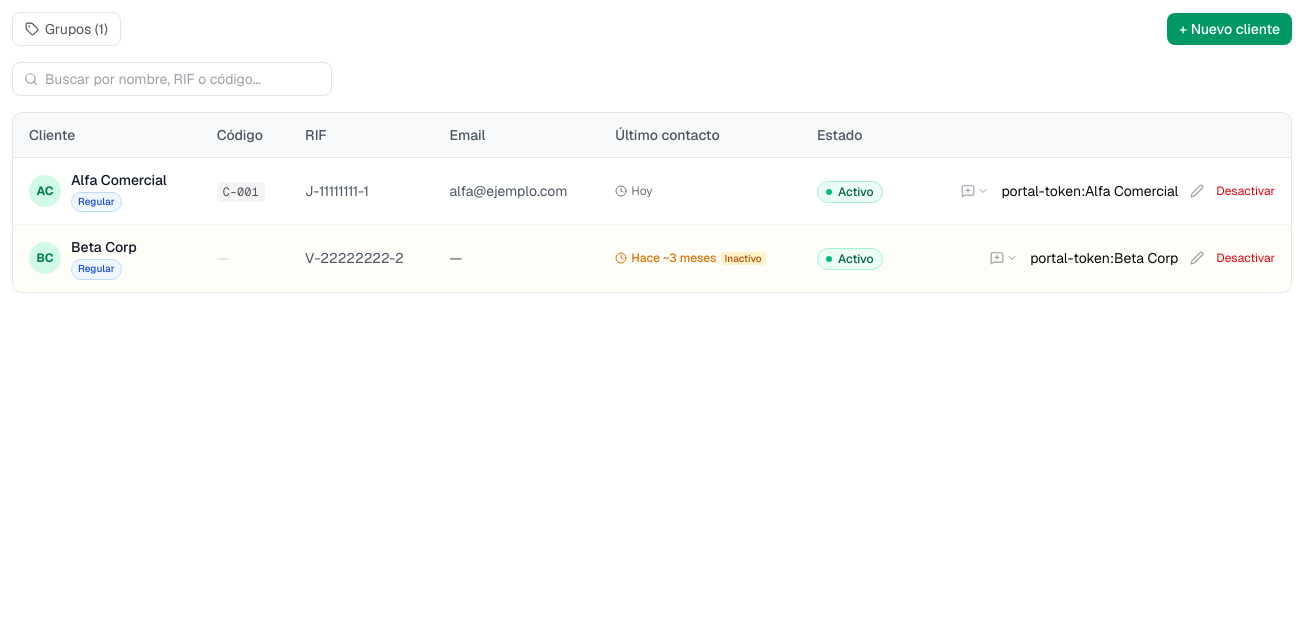
it: CustomerList — smoke del refactor RHF (P2) › createCustomerAction success → el customer nuevo aparece en la lista y el form se cierra
Click the button "+ Nuevo cliente".
click(1230, 29)  # box [1167, 13, 1292, 45]
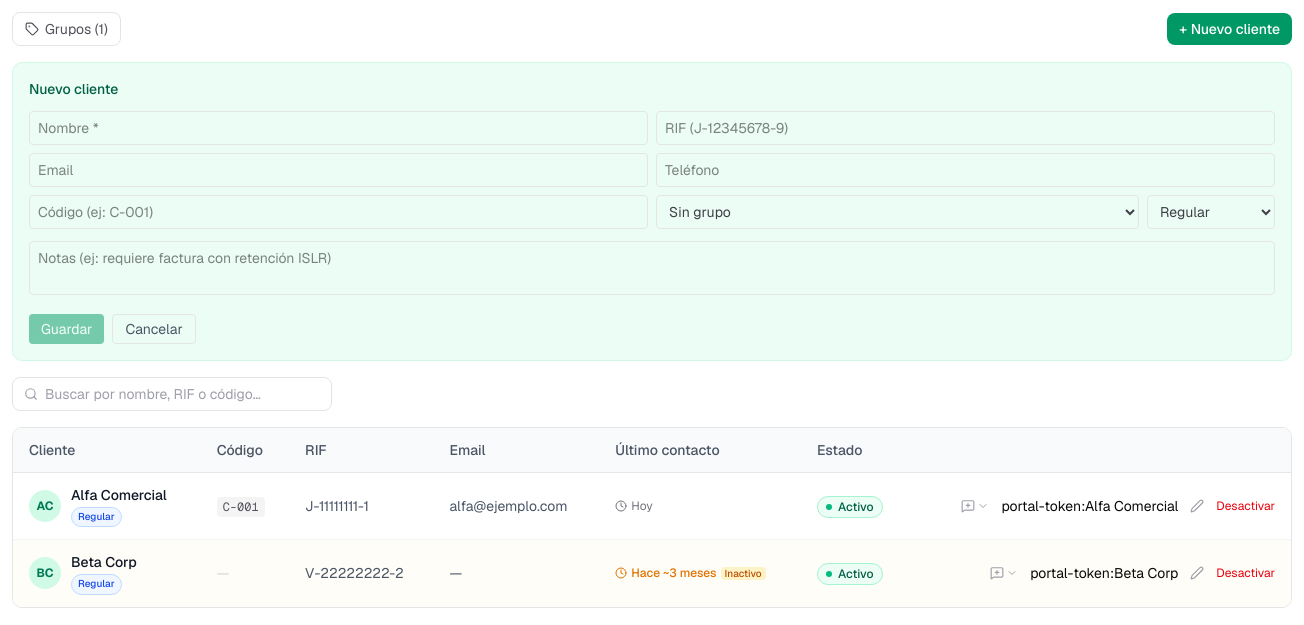
Type "Zeta Distribuciones" into the field with placeholder "Nombre *".
click(338, 128); type("Zeta Distribuciones")  # box [29, 111, 648, 145]
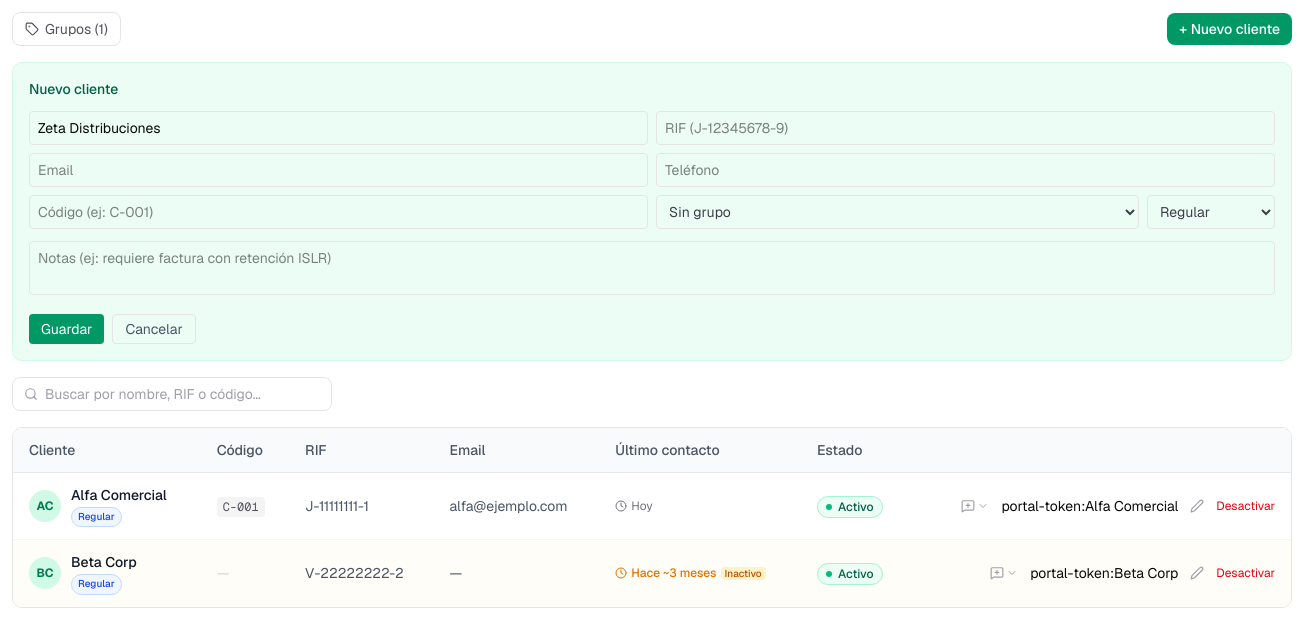
Click the button "Guardar".
click(67, 329)  # box [29, 314, 104, 344]
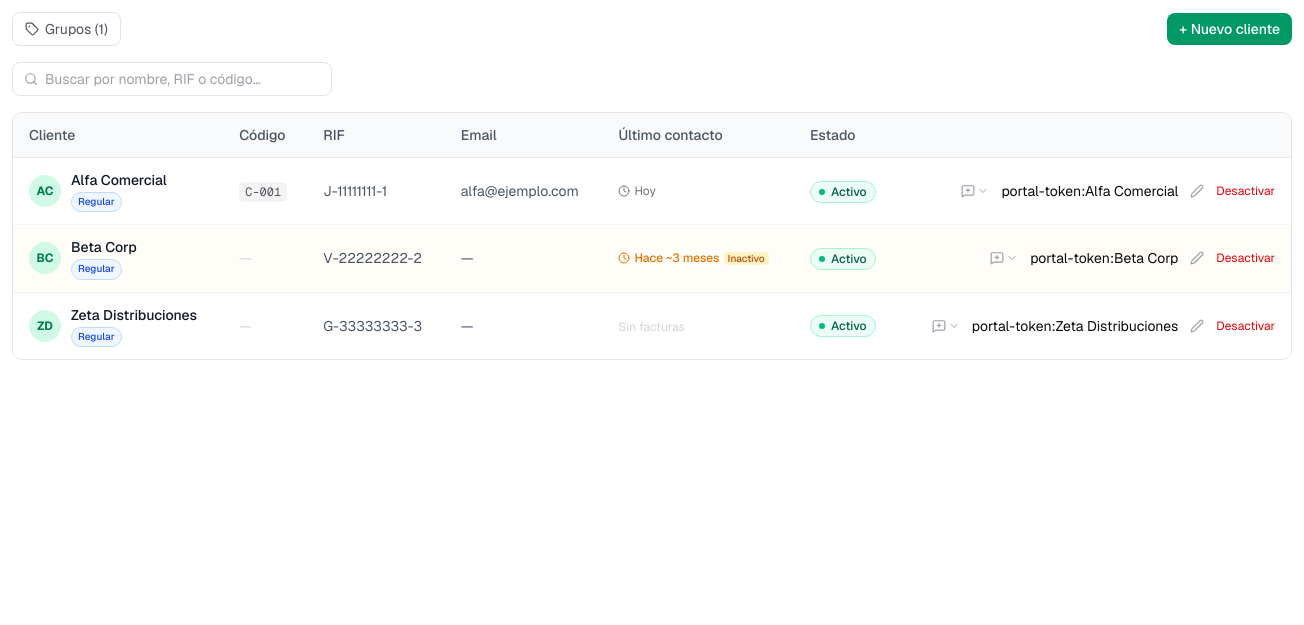
Expected: the field with placeholder "Nombre *" is not shown
Expected: the text "Zeta Distribuciones" is shown, [71, 305, 197, 325]
